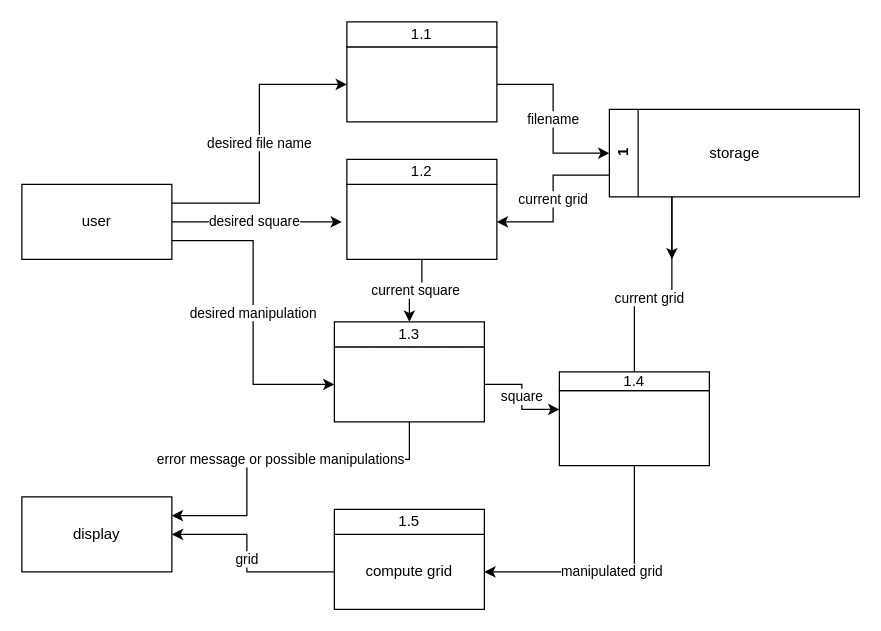
Image size: 881x631. Some labels were removed from this diagram. Each missing label, with the centre of its shape:
can this manipulation happen?: the point at 408,384
manipulate grid: the point at 633,427
Retrieve current grid from storage: the point at 421,84
what's in that square?: the point at 421,221
